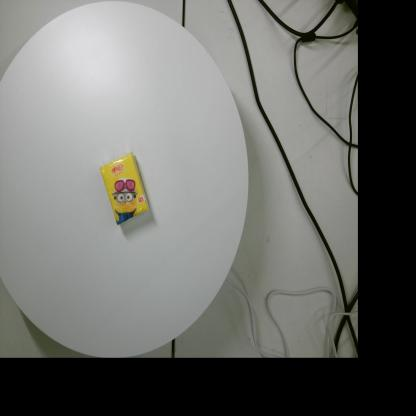Tissue: (100, 151, 150, 225)
